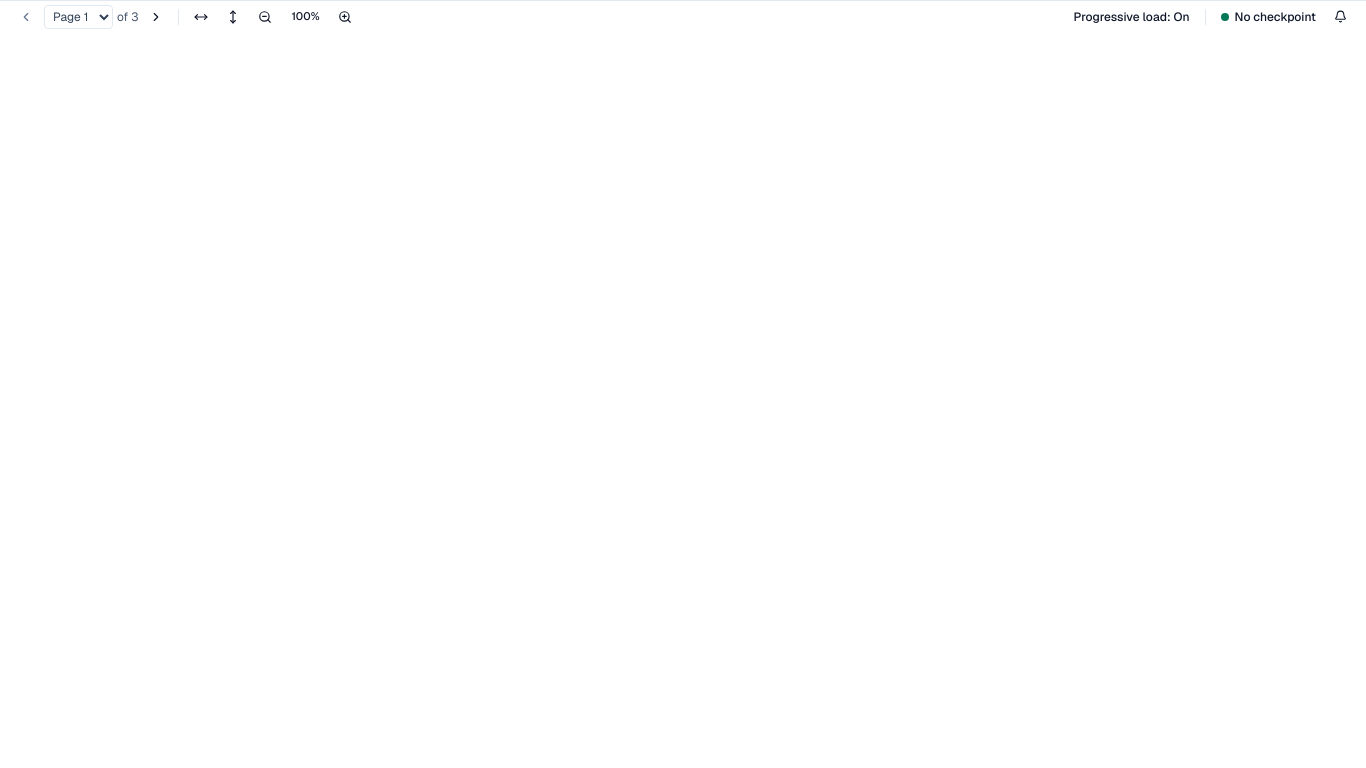
Test: StatusBar notices › says when there is nothing
Click the button with test id "status-notices" at (1340, 16), box [1327, 4, 1354, 28]
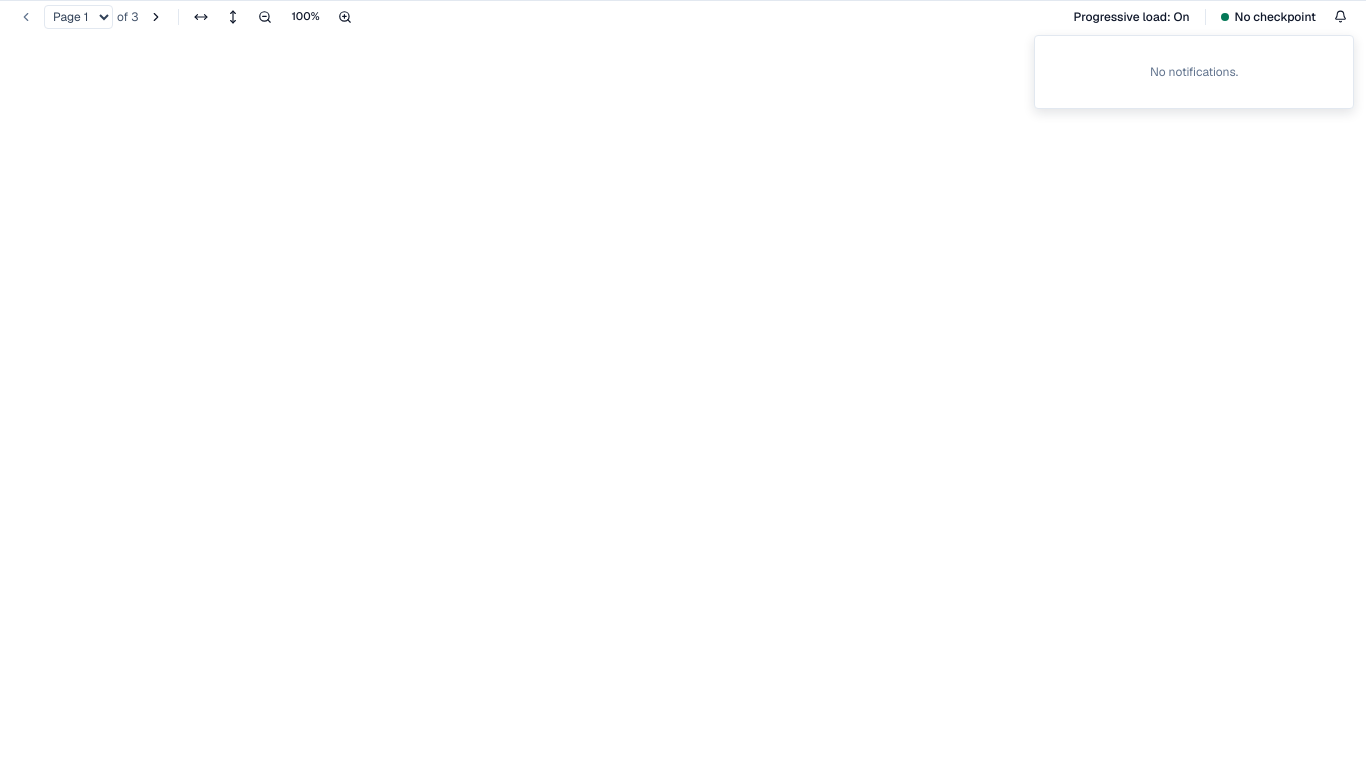
Expected: the text "No notifications." is shown, [1150, 64, 1238, 80]
